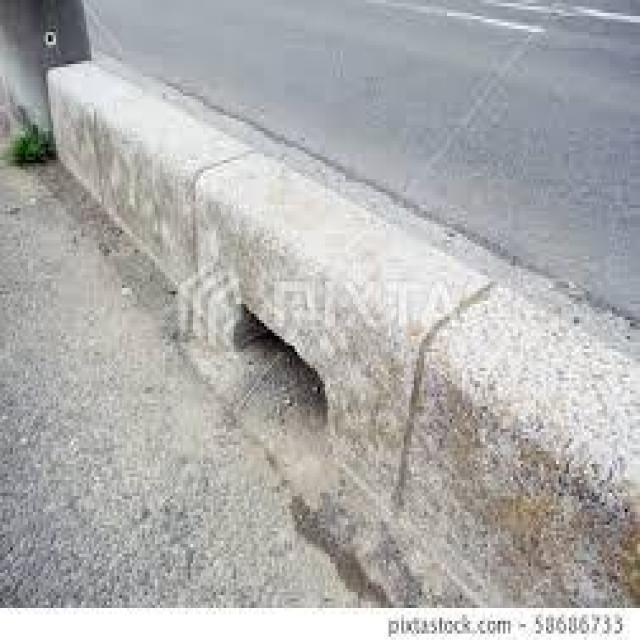curb: (53, 63, 640, 613)
